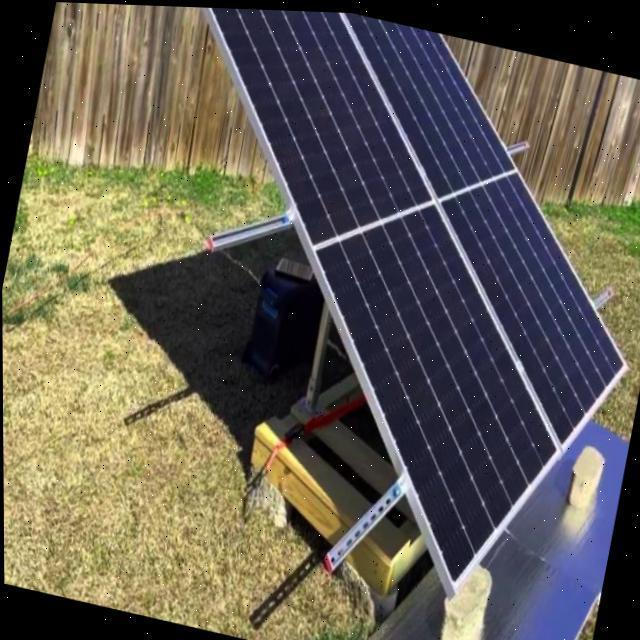Normal Solar Panel: (102, 3, 640, 619)
